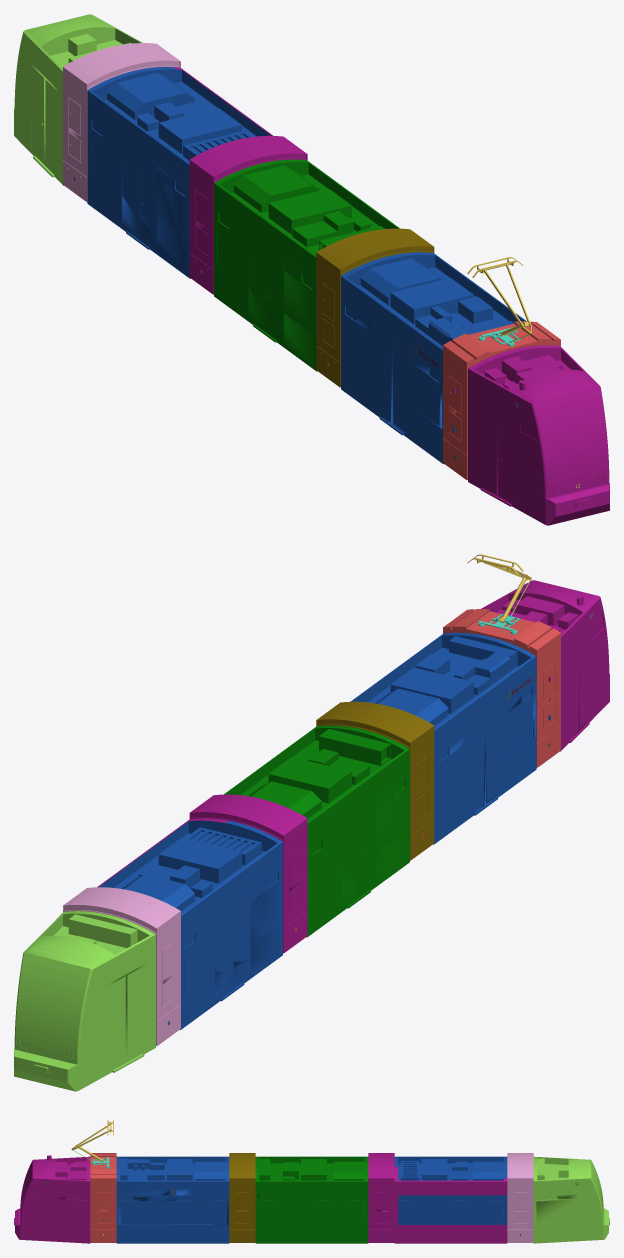
The model's file is train.obj.
3 views of the same model, one above another, from view 1: azimuth 30°, elevation 25°; view 2: azimuth 150°, elevation 25°; view 3: azimuth 270°, elevation 25° (orthographic). The views are drawn at different scales.
Parts seen in each view (by area): view 1: train.001; view 2: train.001; view 3: train.001.
Boxes of the visible parts, <box> form: train.001: <box>14,14,609,525</box>; train.001: <box>14,554,609,1091</box>; train.001: <box>14,1120,609,1243</box>.
Bounding box in the file's own units: 2.49 × 4.89 × 24.23.
